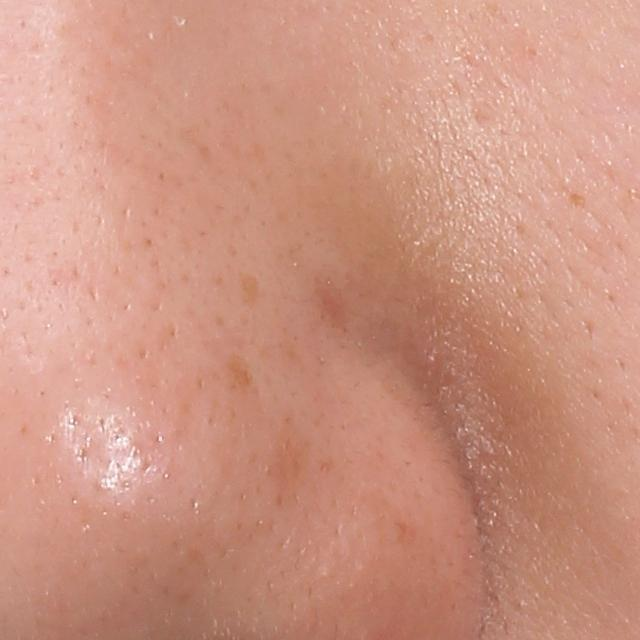melasma: (262, 426, 311, 504), (313, 276, 361, 341), (226, 350, 259, 395), (236, 269, 264, 313)
